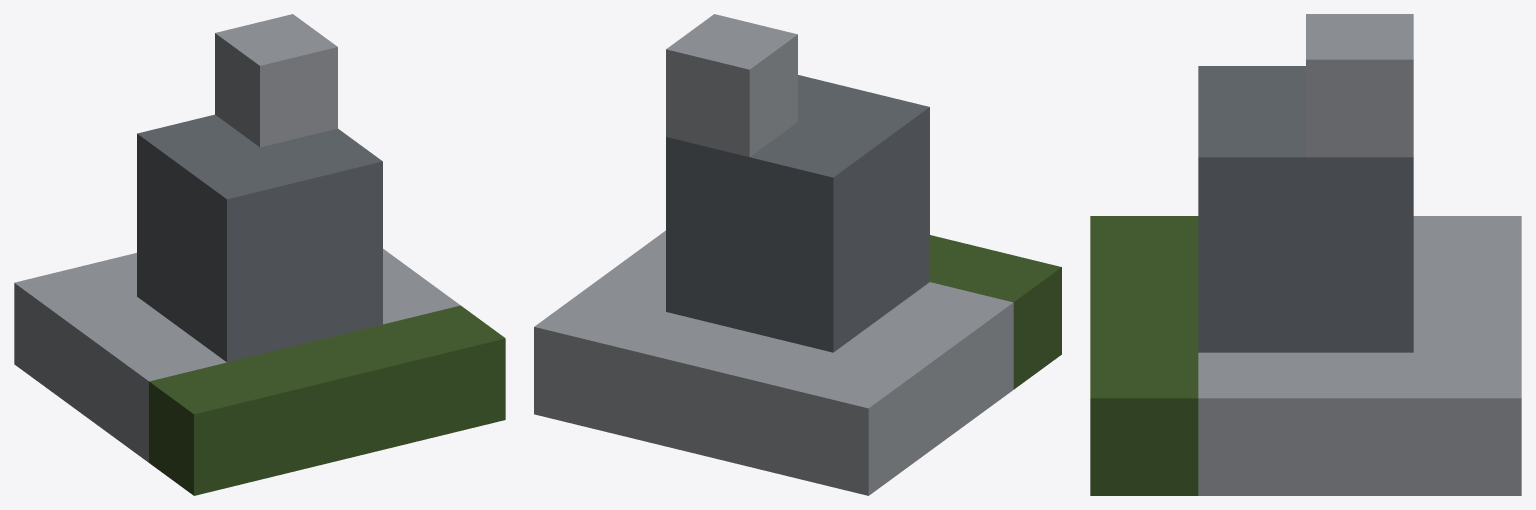
File: prop_crypt_flowstone_voxel.fbx
3 renders of one model, left to right at view 1: azimuth 30°, elevation 25°; view 2: azimuth 150°, elevation 25°; view 3: azimuth 270°, elevation 25°, orthographic. The views are drawn at different scales.
Parts seen in each view (by area): view 1: prop_crypt_flowstone_voxel; view 2: prop_crypt_flowstone_voxel; view 3: prop_crypt_flowstone_voxel.
Boxes of the visible parts, x1,y1,x2,y2 form: prop_crypt_flowstone_voxel: (14,14,505,495); prop_crypt_flowstone_voxel: (534,14,1061,495); prop_crypt_flowstone_voxel: (1090,14,1521,495).
Bounding box in the file's own units: 0.5 × 0.5 × 0.5.
